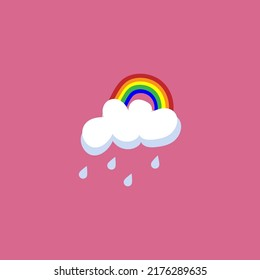cloud: (79, 99, 184, 153)
rainbow: (110, 71, 177, 112)
